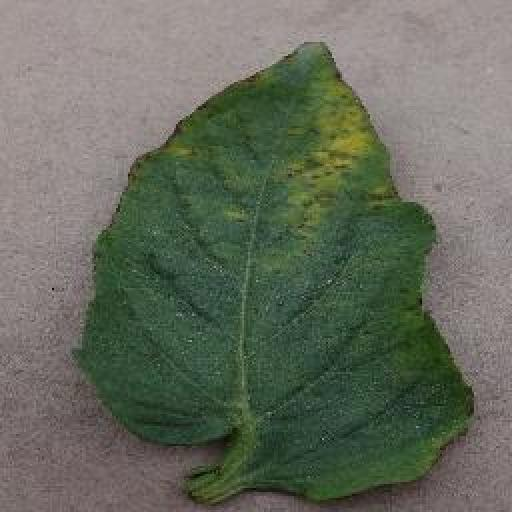Bacterial Spot: (67, 40, 480, 504)
